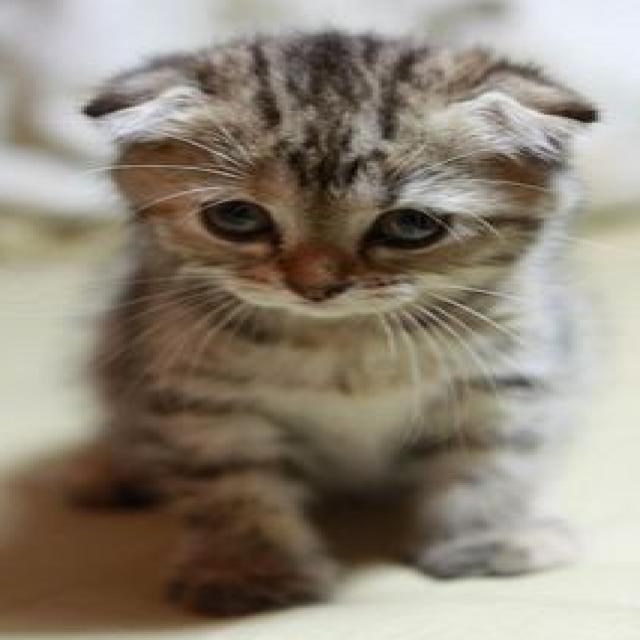Scottish Fold: (54, 25, 617, 624)
